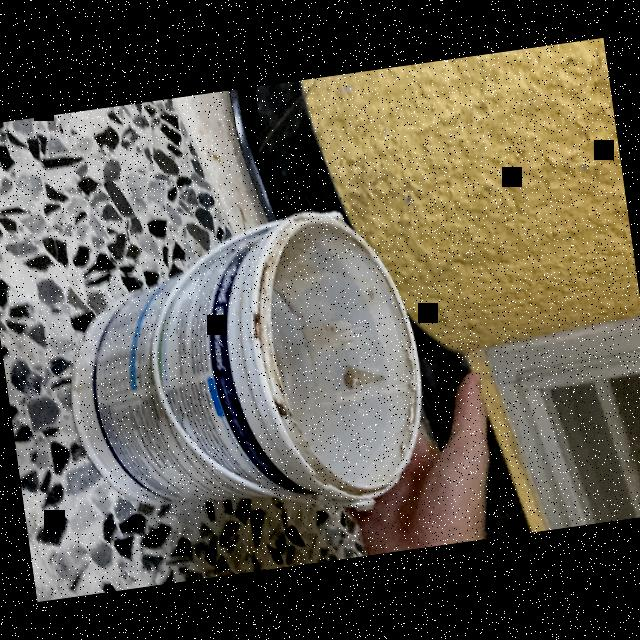paint_bucket: (52, 197, 442, 536)
